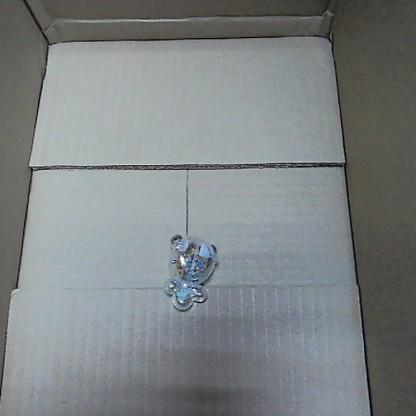whitefish: (160, 228, 221, 310)
